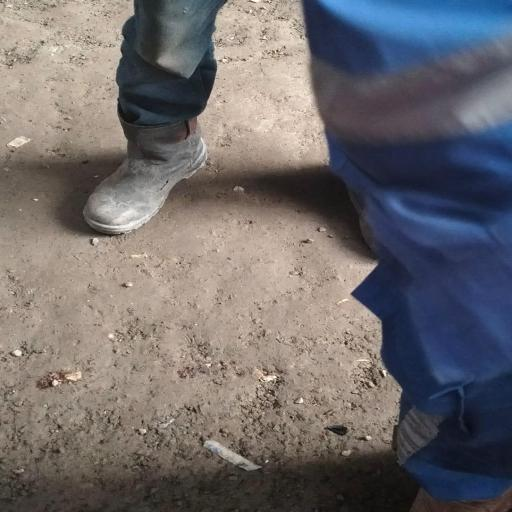safety_shoe: (76, 112, 210, 233)
